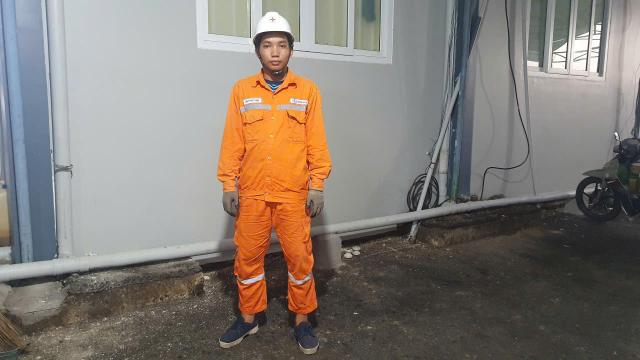gloves: (300, 184, 331, 221), (216, 185, 248, 220)
helmet: (242, 5, 300, 44)
shoes: (280, 304, 324, 358), (214, 304, 268, 344)
